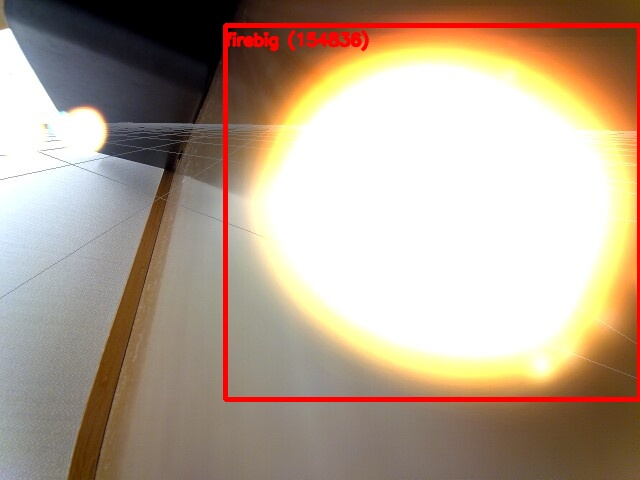firebig: (225, 25, 639, 399)
